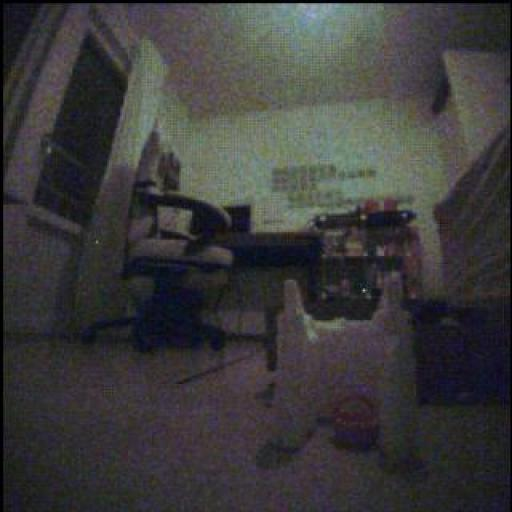basket: (334, 395, 380, 452), (364, 200, 382, 216), (385, 198, 399, 212)
